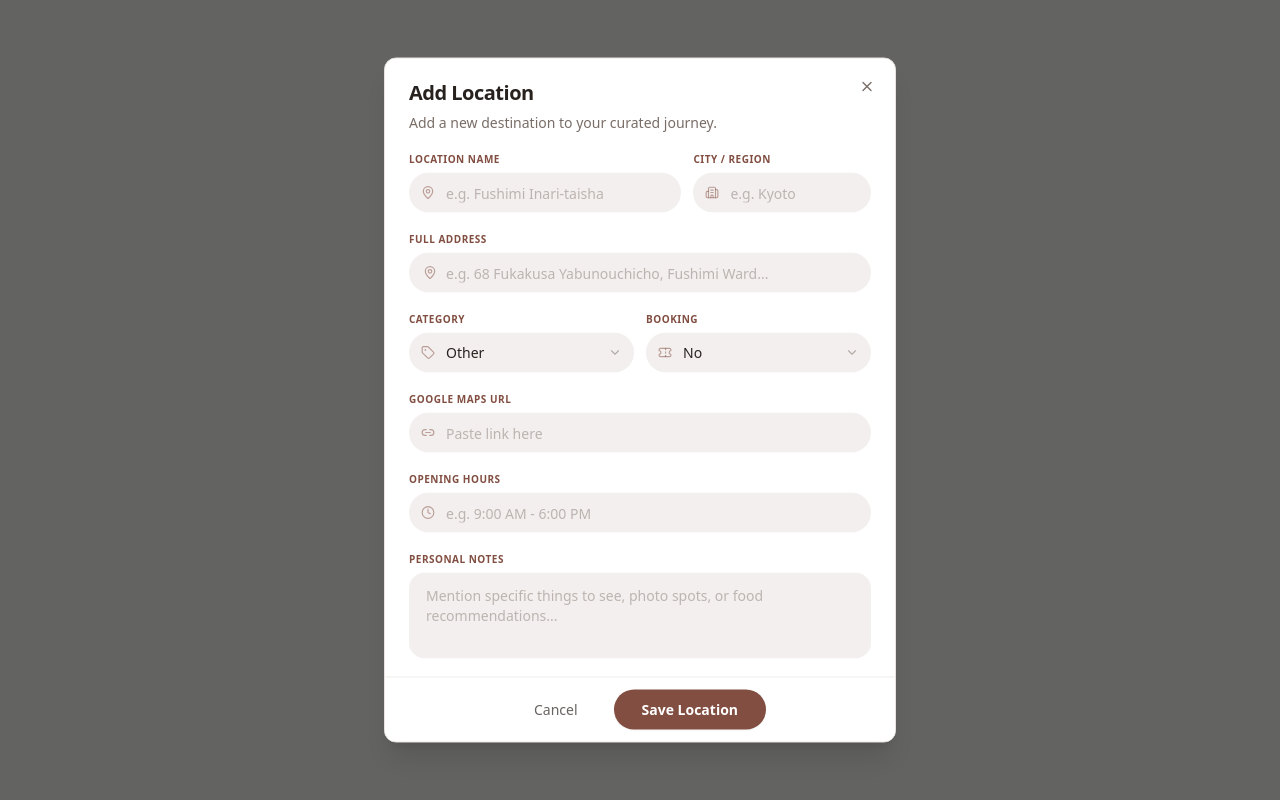
AddLocationForm › shows 'Adding…' while saving
Type "Place" into the field labelled "Location name" at point(545, 192), box 409,172 -> 681,212
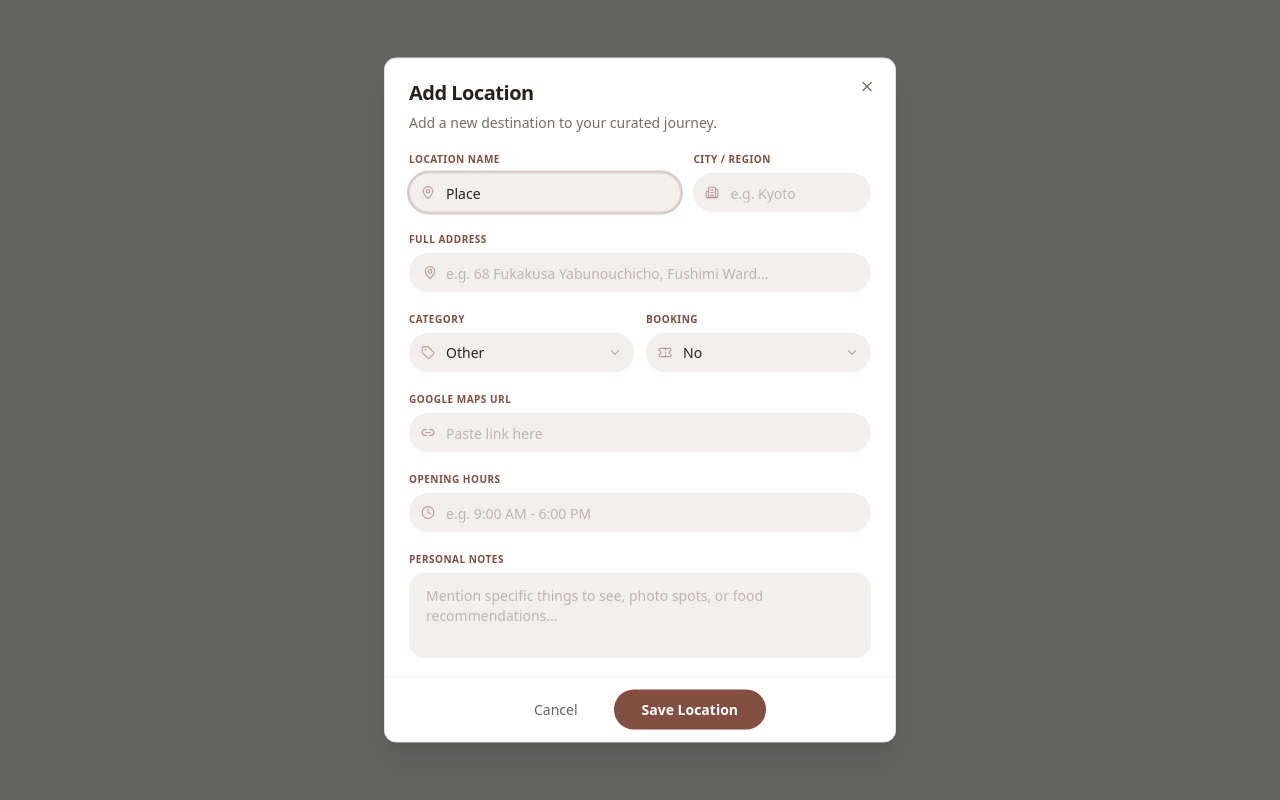
Click the button "Save Location" at point(690, 710), box 614,690 -> 766,730
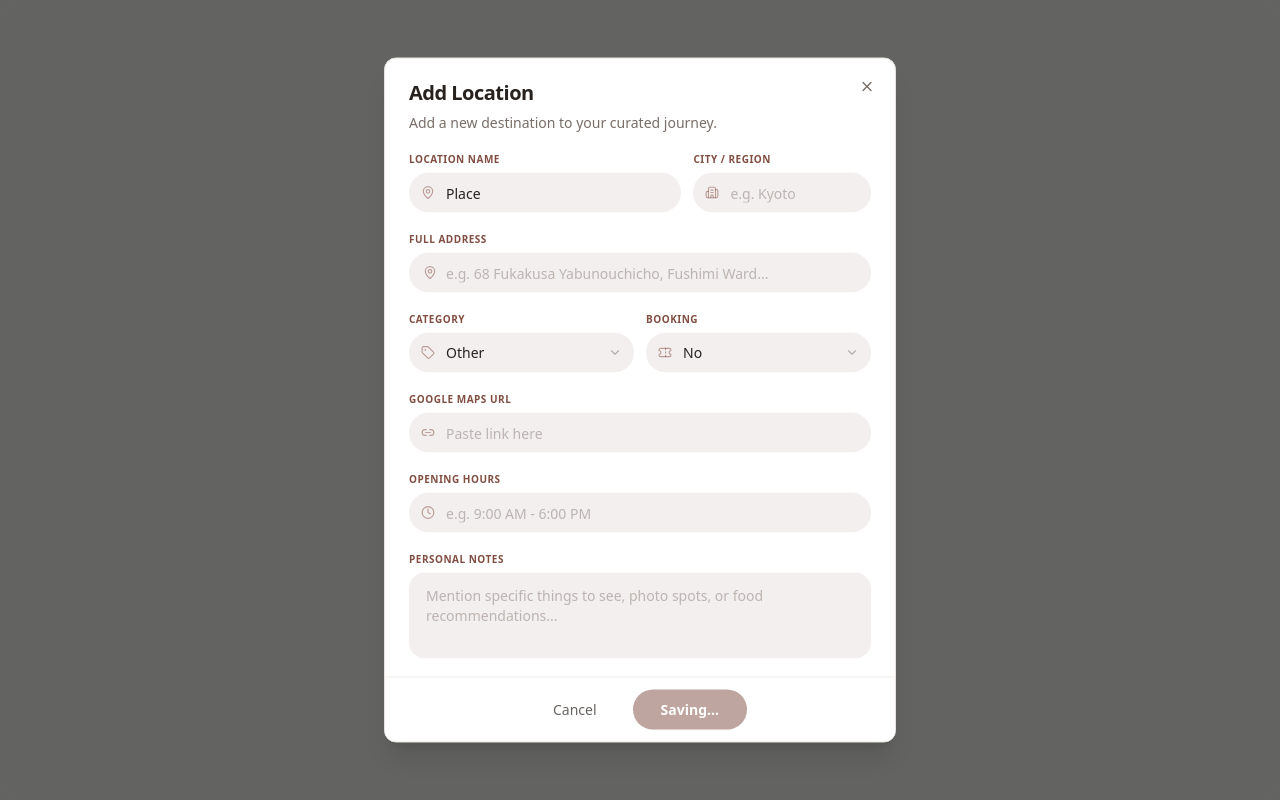
Check: the button "Saving…" is shown, box 633,690 -> 747,730
